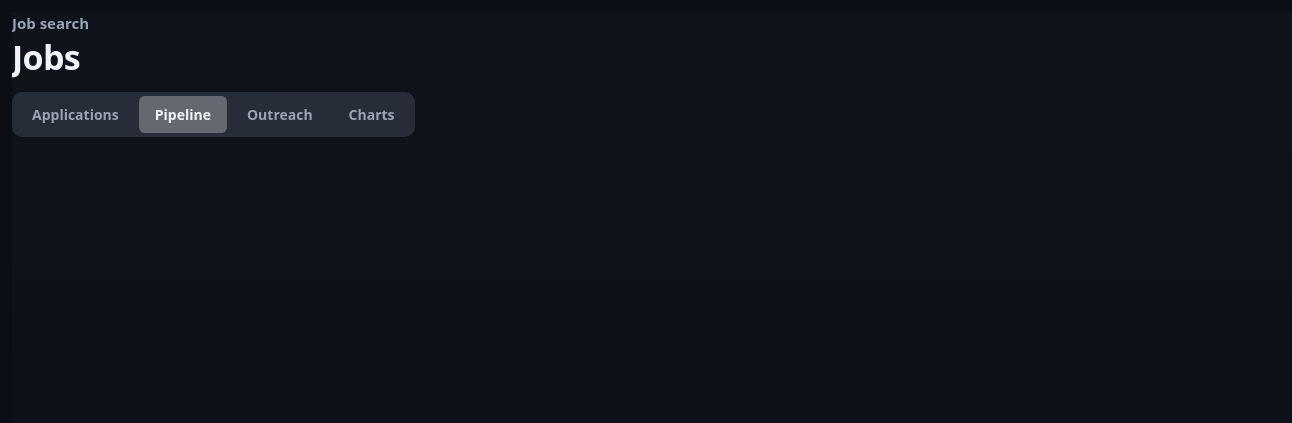
it: JobsPage › filters the outreach log by status
Click the tab "Outreach" at point(280, 114), box [231,96,329,133]
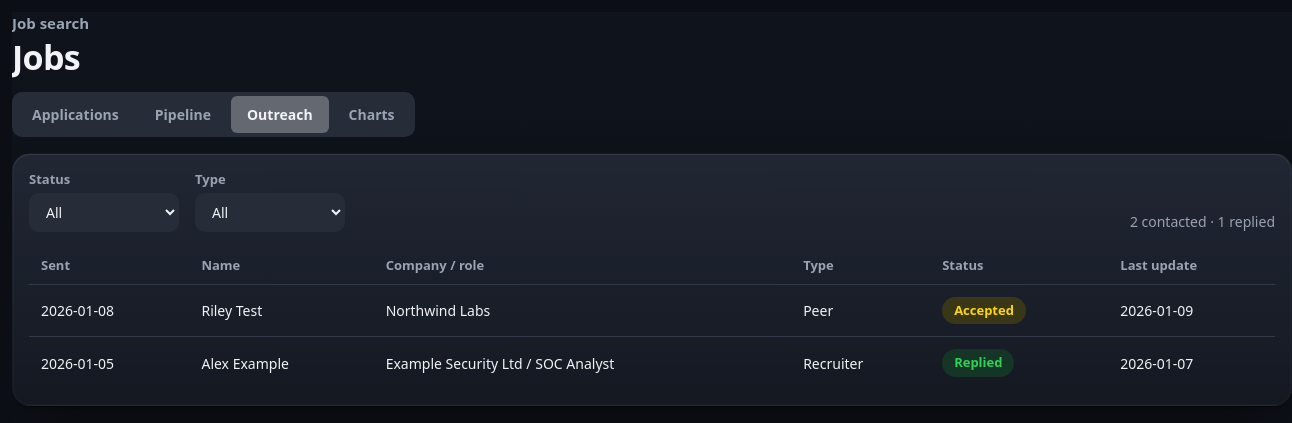
Now the text "Alex Example" is shown, box [189,337,374,389]
Now the text "2 contacted · 1 replied" is shown, box [1130,211,1275,232]
Select "Accepted" in the dropdown labelled "Status" at point(104, 213), box [29,193,179,232]
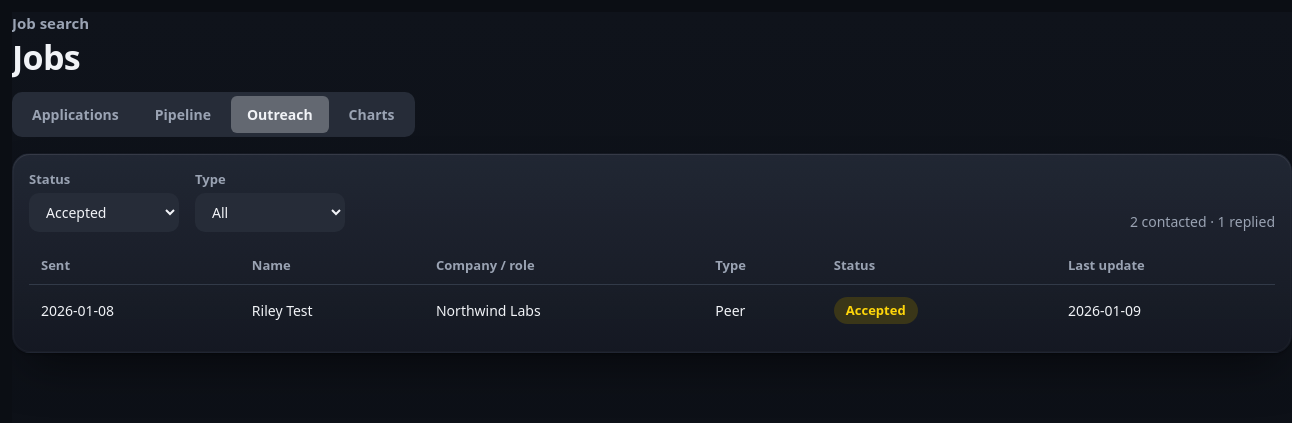
Now the text "Riley Test" is shown, box [240,284,424,336]
Now the text "Alex Example" is gone
